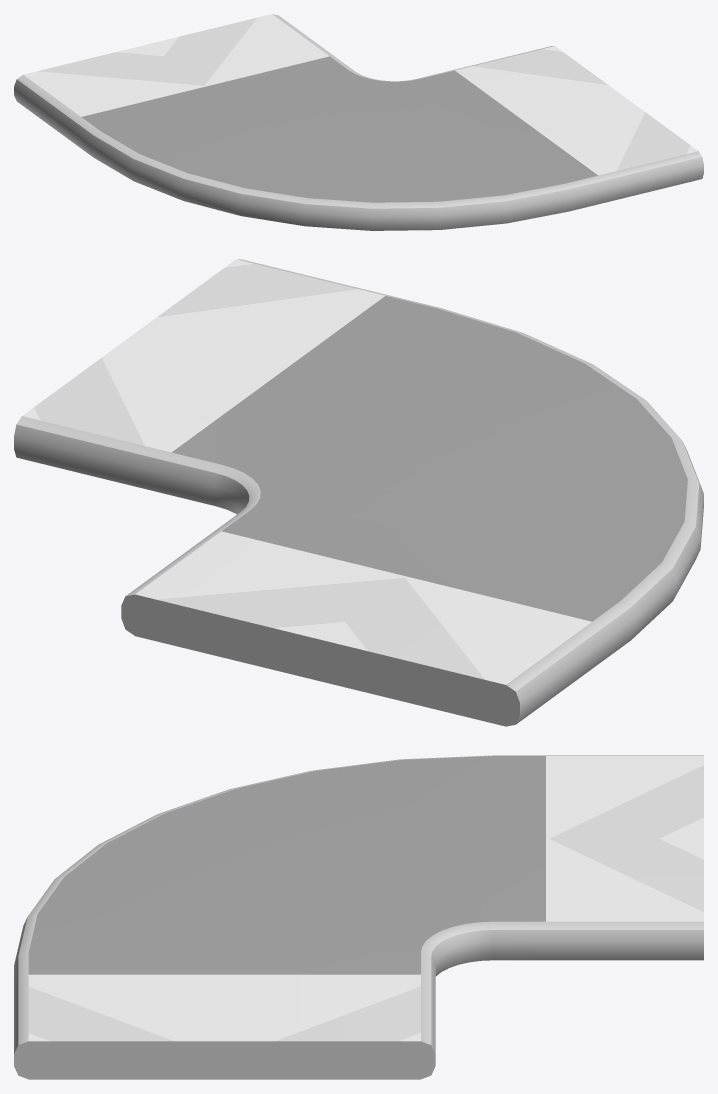
The model's file is floor_left_90.fbx.
The picture shows the model from 3 angles, top to bottom: view 1: azimuth 30°, elevation 25°; view 2: azimuth 150°, elevation 25°; view 3: azimuth 270°, elevation 25°; orthographic projection. The views are drawn at different scales.
Visible parts, largest first — view 1: floor_left_90; view 2: floor_left_90; view 3: floor_left_90.
Part boxes in pixels (x1=…): floor_left_90: x1=14, y1=14, x2=703, y2=230; floor_left_90: x1=14, y1=259, x2=703, y2=726; floor_left_90: x1=14, y1=755, x2=703, y2=1079.
Bounding box in the file's own units: 818 × 50 × 818.
3 materials, 1 textured.
